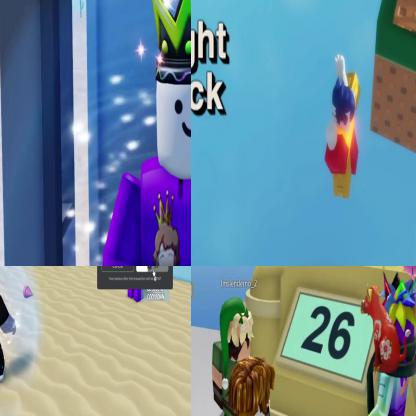Roblox-Avatar: (104, 1, 191, 266), (346, 271, 416, 416), (325, 55, 362, 200), (213, 298, 256, 416), (207, 357, 291, 416), (1, 267, 18, 403)
